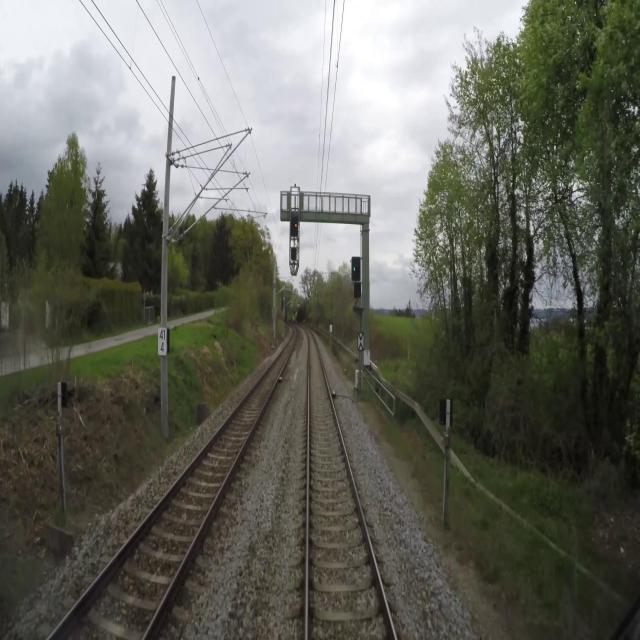rail-track: (55, 329, 296, 639), (309, 334, 393, 639)
